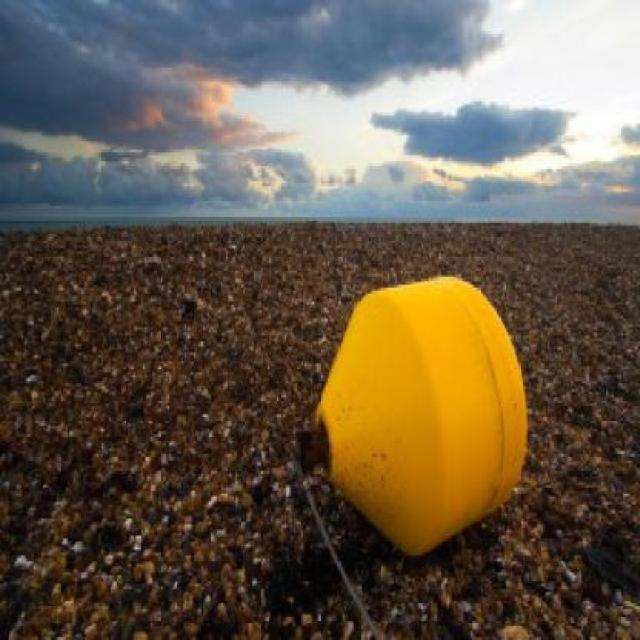a: (289, 269, 536, 556)
